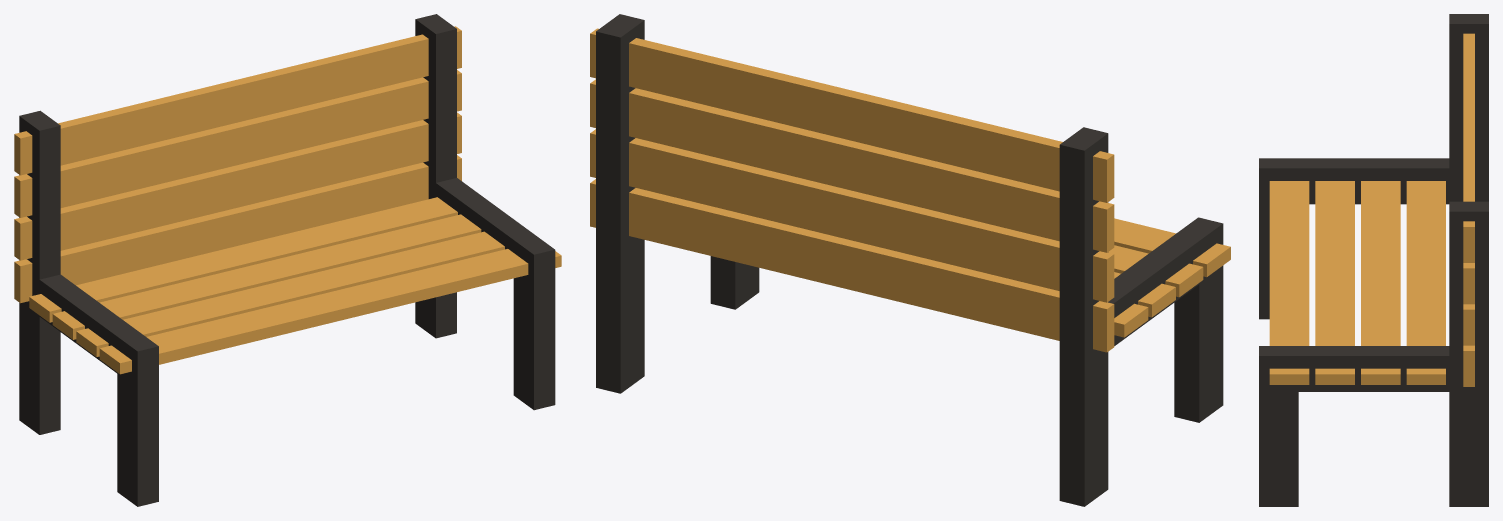
The model's file is Bench.fbx.
3 renders of one model, left to right at view 1: azimuth 30°, elevation 25°; view 2: azimuth 150°, elevation 25°; view 3: azimuth 270°, elevation 25°, orthographic. The views are drawn at different scales.
Visible parts, largest first — view 1: Cube.007, Cube.006, Cube.002, Cube.005; view 2: Cube.007, Cube.002, Cube.005, Cube.006; view 3: Cube.006, Cube.005, Cube.002, Cube.007.
Boxes of the visible parts, left/top/right/bottom form: Cube.007: left=14, top=26, right=461, bottom=303; Cube.006: left=29, top=197, right=561, bottom=374; Cube.002: left=19, top=110, right=158, bottom=506; Cube.005: left=415, top=14, right=555, bottom=410; Cube.007: left=590, top=28, right=1114, bottom=352; Cube.002: left=1059, top=127, right=1223, bottom=506; Cube.005: left=596, top=14, right=759, bottom=393; Cube.006: left=1108, top=218, right=1230, bottom=337; Cube.006: left=1269, top=181, right=1445, bottom=384; Cube.005: left=1259, top=201, right=1488, bottom=506; Cube.002: left=1259, top=14, right=1488, bottom=319; Cube.007: left=1463, top=33, right=1474, bottom=386.
Bounding box in the file's own units: 119 × 78.3 × 55.25.
